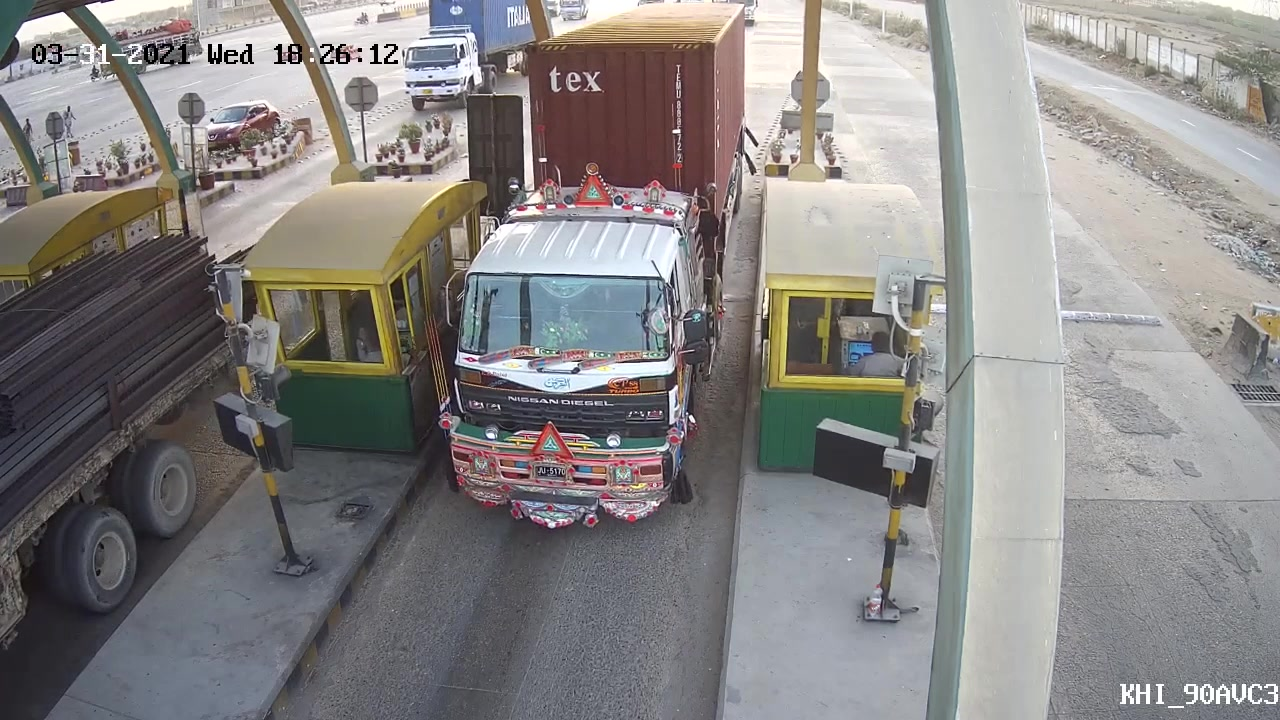F6: (439, 1, 761, 531)
